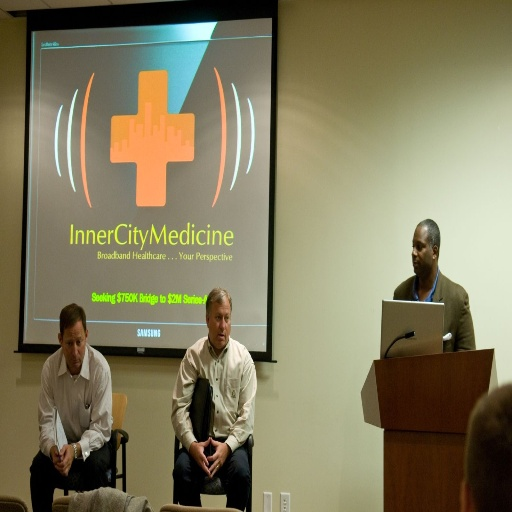hand: (191, 435, 213, 479), (204, 436, 224, 477), (55, 444, 75, 478), (50, 446, 60, 468)
